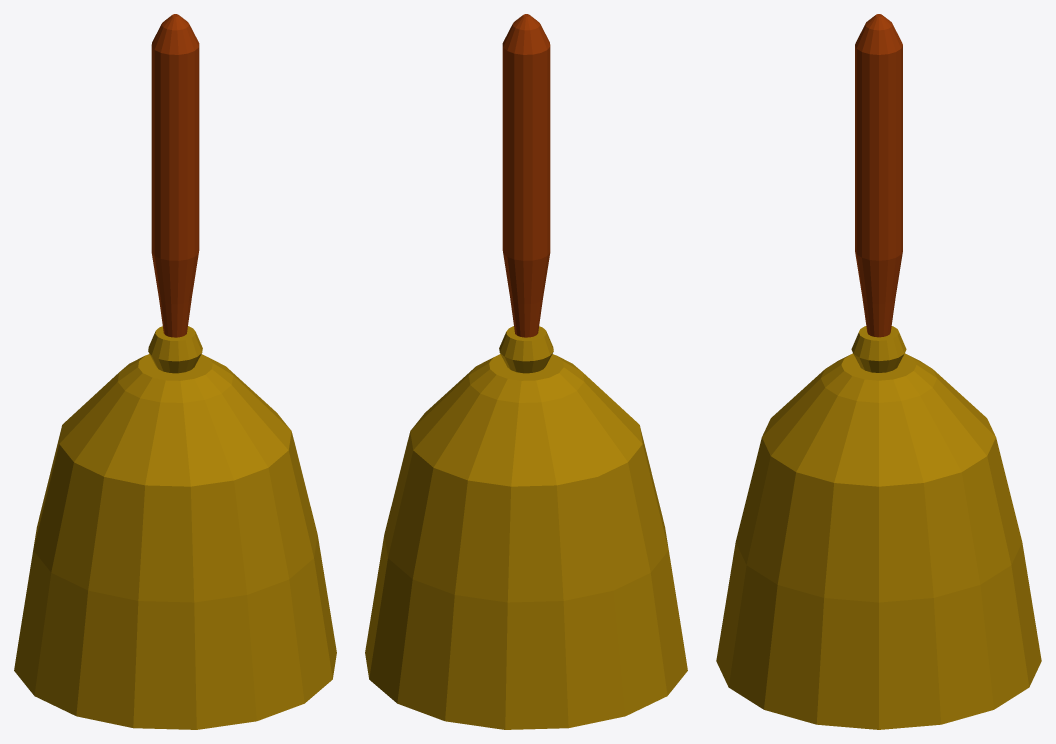
The model's file is SoothingBell.fbx.
3 views of the same model, side by side, from view 1: azimuth 30°, elevation 25°; view 2: azimuth 150°, elevation 25°; view 3: azimuth 270°, elevation 25° (orthographic).
Visible parts, largest first — view 1: Bell; view 2: Bell; view 3: Bell.
Boxes of the visible parts, <box> form: Bell: <box>14,14,336,729</box>; Bell: <box>365,14,687,729</box>; Bell: <box>716,14,1041,729</box>.
Size of the model in its own units: 559 by 1224 by 559.
